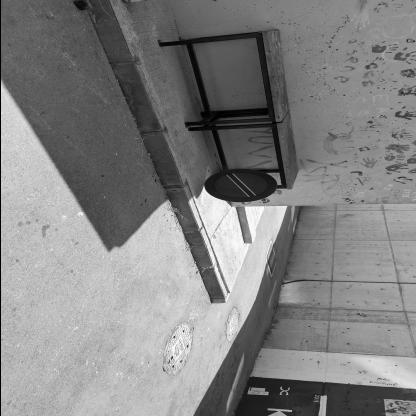No Waiting: (205, 170, 278, 204)
